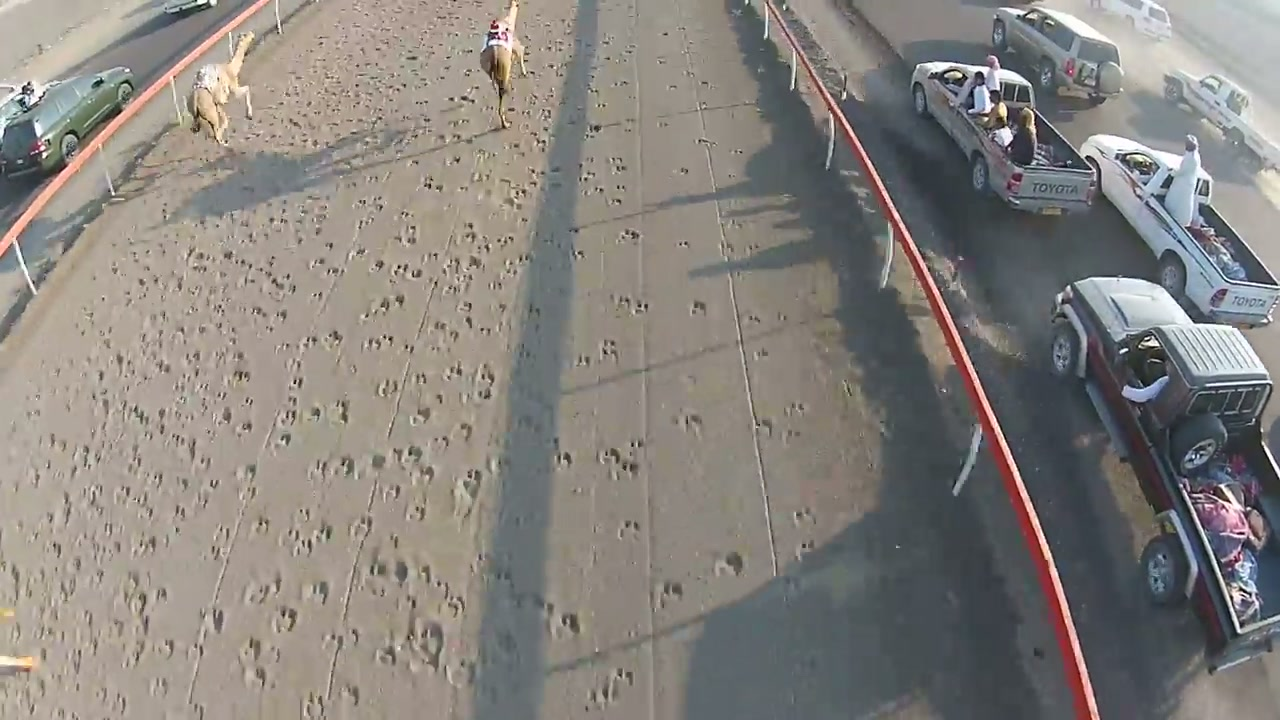animal_foot_print: (78, 42, 522, 700), (413, 73, 733, 697)
